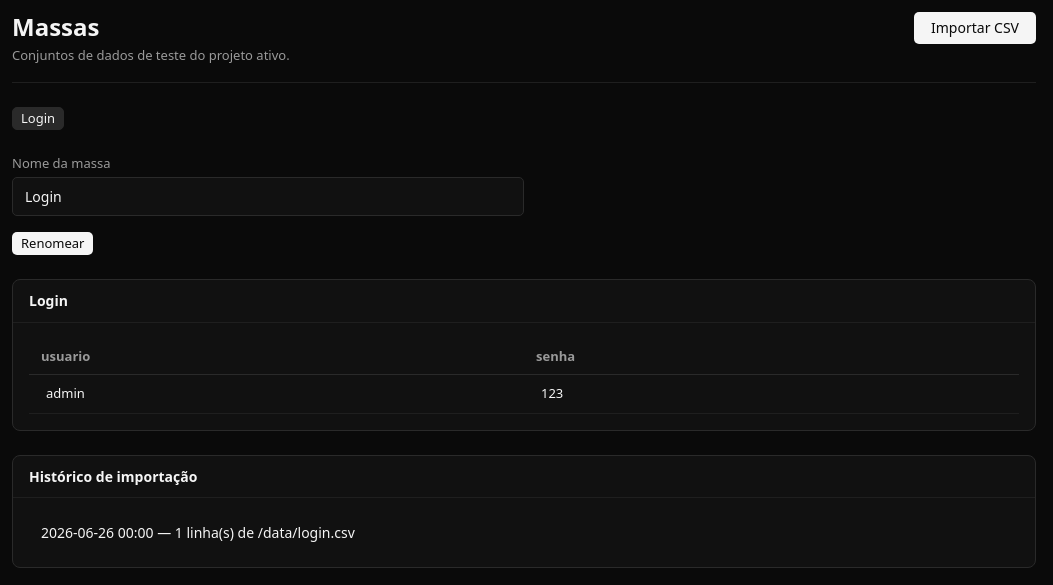
Scenario: MassWorkspace (PRD §7) › renames the selected mass
Expected: the button "Login" is shown, [12,106,64,130]
Replace the text in the field labelled "Nome da massa" with "Acesso" at (268, 196), box [12,177,524,216]
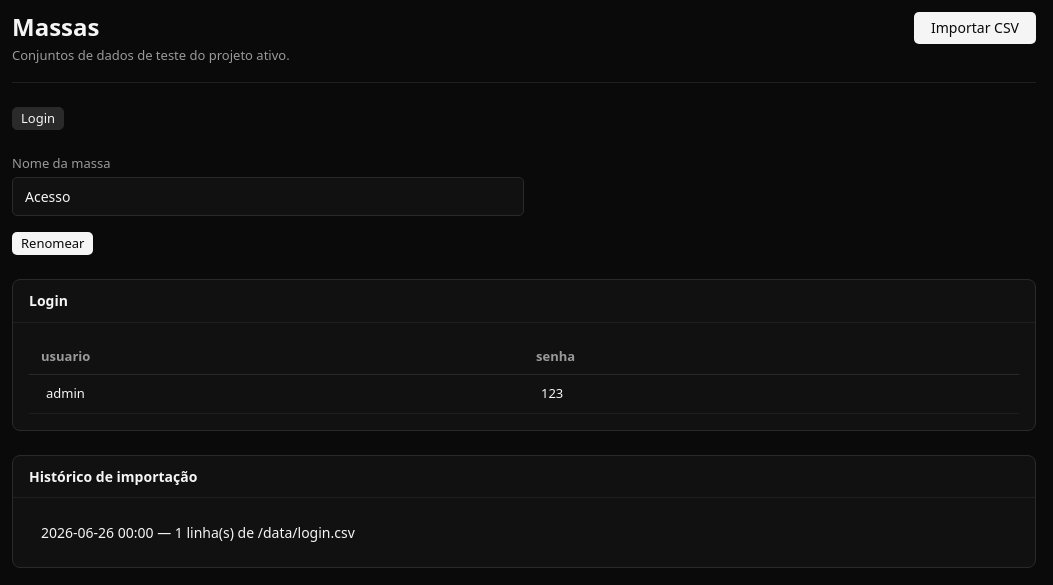
Click the button "Renomear" at (53, 244), box [12,232,94,255]
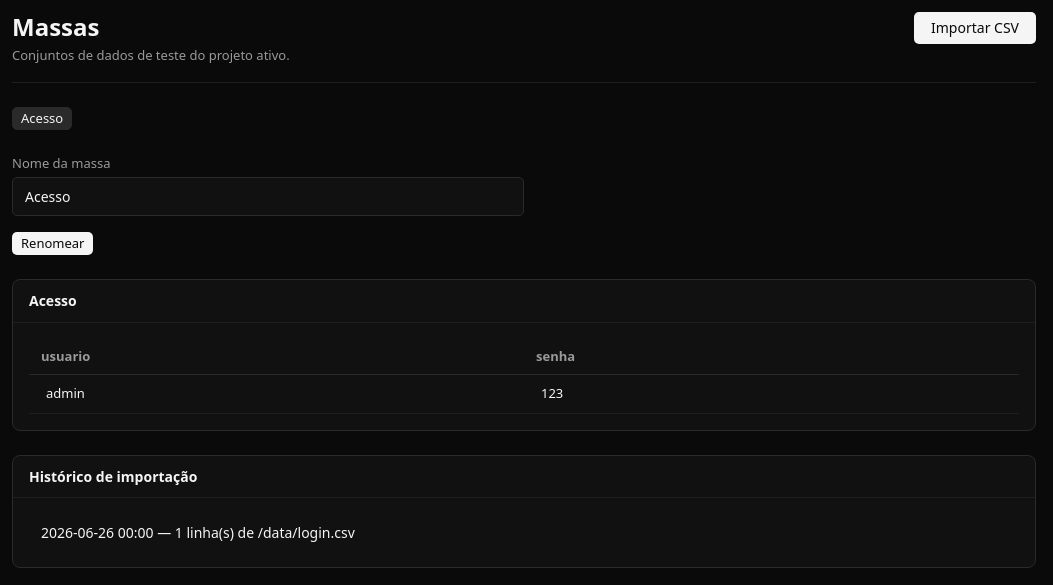
Result: the button "Acesso" is shown at [12,106,72,130]
